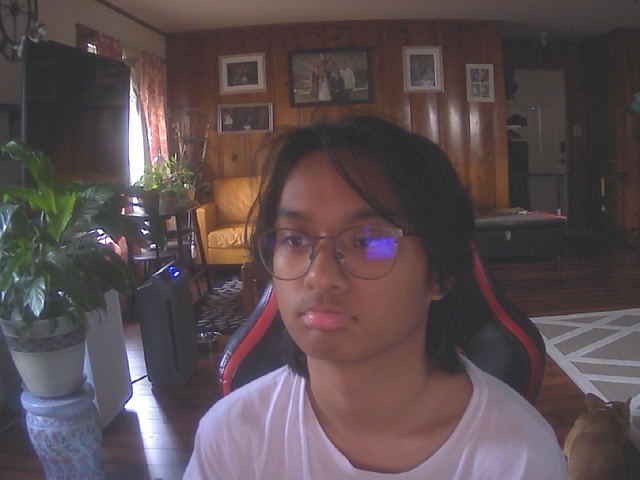sad: (248, 123, 465, 366)
